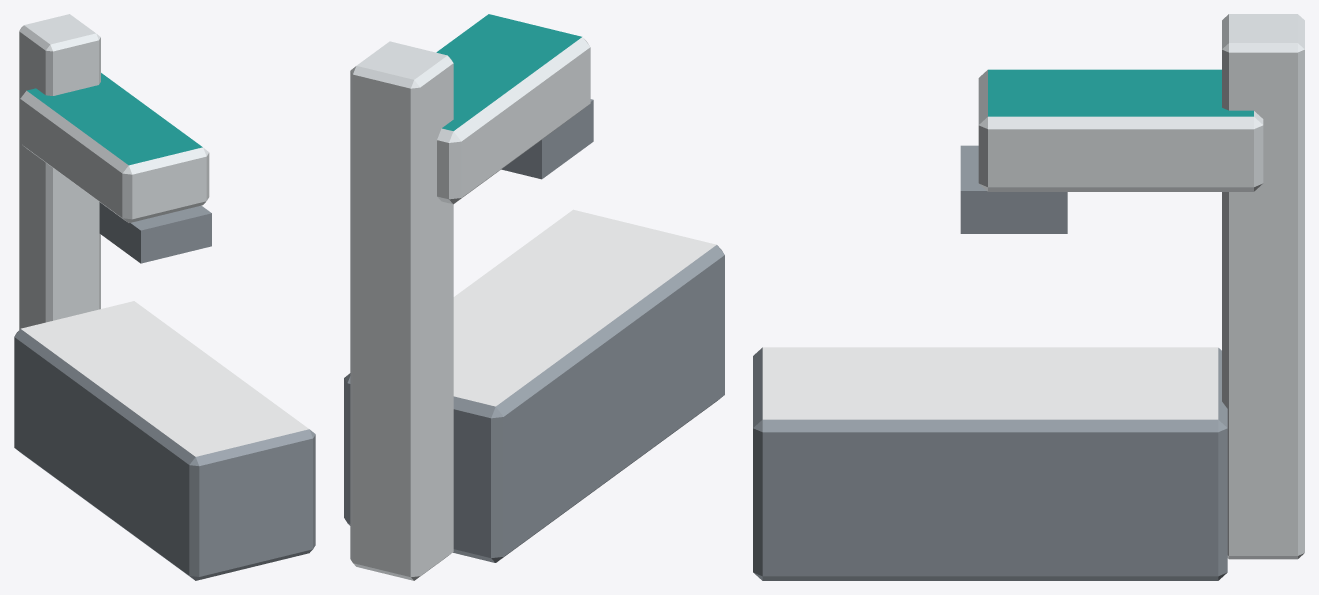
The model's file is xray.fbx.
3 views of the same model, side by side, from view 1: azimuth 30°, elevation 25°; view 2: azimuth 150°, elevation 25°; view 3: azimuth 270°, elevation 25° (orthographic). The views are drawn at different scales.
Parts seen in each view (by area): view 1: xray; view 2: xray; view 3: xray.
Boxes of the visible parts, box(x1,y1,x2,y2) form: xray: box(14, 14, 315, 580); xray: box(344, 14, 724, 580); xray: box(753, 14, 1304, 580).
Size of the model in its own units: 0.8 by 2.4 by 2.33.
